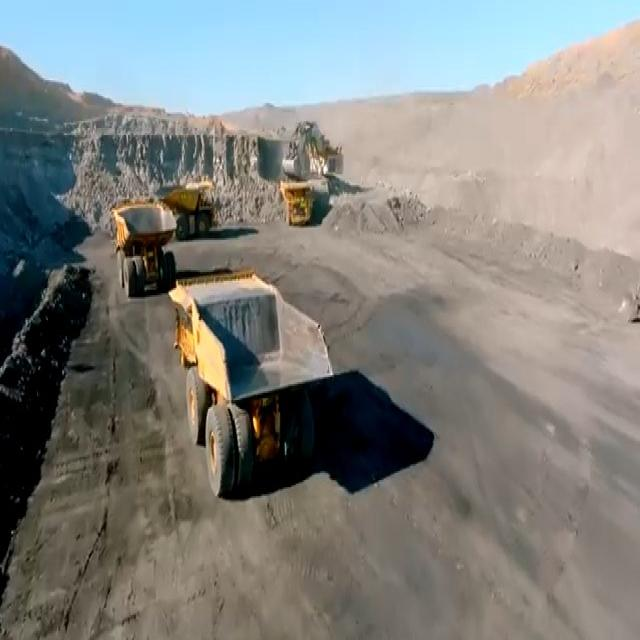dump_truck: (172, 274, 329, 503), (108, 200, 174, 295), (169, 181, 214, 232), (282, 177, 312, 225)
excavator: (279, 122, 344, 176)
